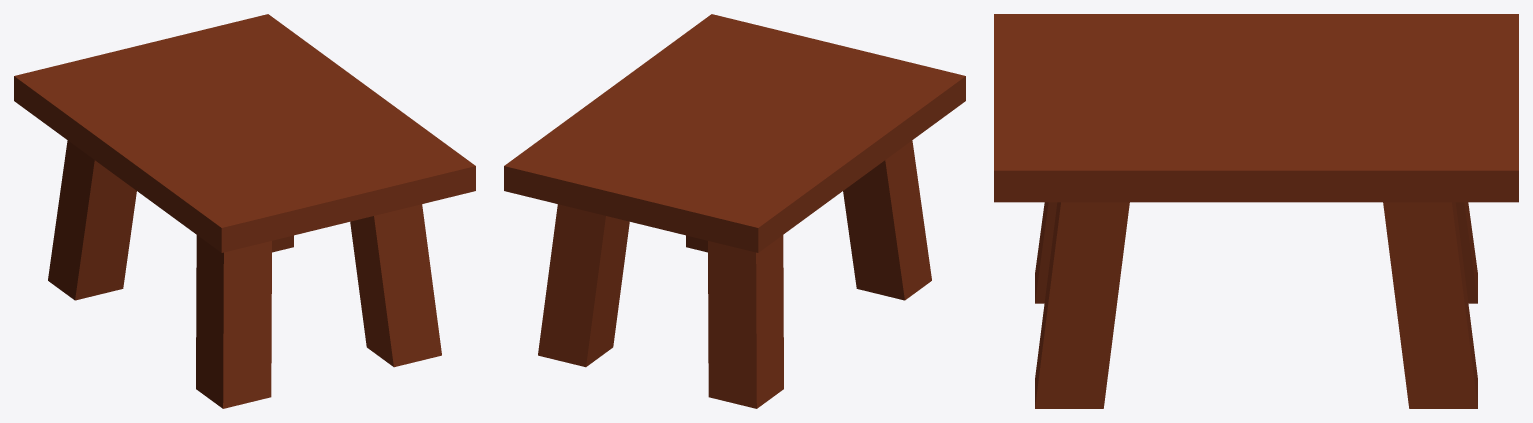
Rendered from crafting_bench.glb.
3 renders of one model, left to right at view 1: azimuth 30°, elevation 25°; view 2: azimuth 150°, elevation 25°; view 3: azimuth 270°, elevation 25°, orthographic. The views are drawn at different scales.
Parts seen in each view (by area): view 1: Cube; view 2: Cube; view 3: Cube.
Part boxes in pixels (left/top/right/bottom): Cube: left=14, top=14, right=475, bottom=408; Cube: left=504, top=14, right=965, bottom=408; Cube: left=994, top=14, right=1518, bottom=408.
Size of the model in its own units: 2.85 by 2.11 by 4.03.
